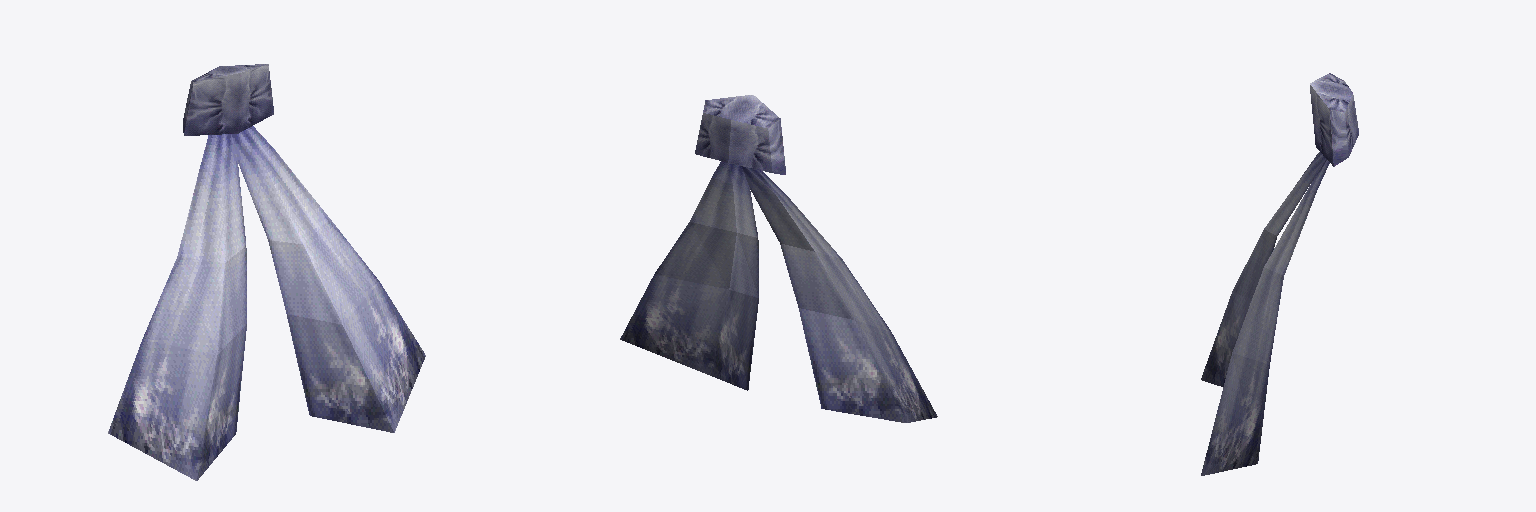
3 views of the same model, side by side, from view 1: azimuth 30°, elevation 25°; view 2: azimuth 150°, elevation 25°; view 3: azimuth 270°, elevation 25° (orthographic).
Parts seen in each view (by area): view 1: defaultobject; view 2: defaultobject; view 3: defaultobject.
Part boxes in pixels (x1,y1,x2,y2): defaultobject: (108,64,425,480); defaultobject: (620,95,937,422); defaultobject: (1201,73,1358,475).
Bounding box in the file's own units: 34.77 × 35.99 × 15.02.
1 materials, 1 textured.